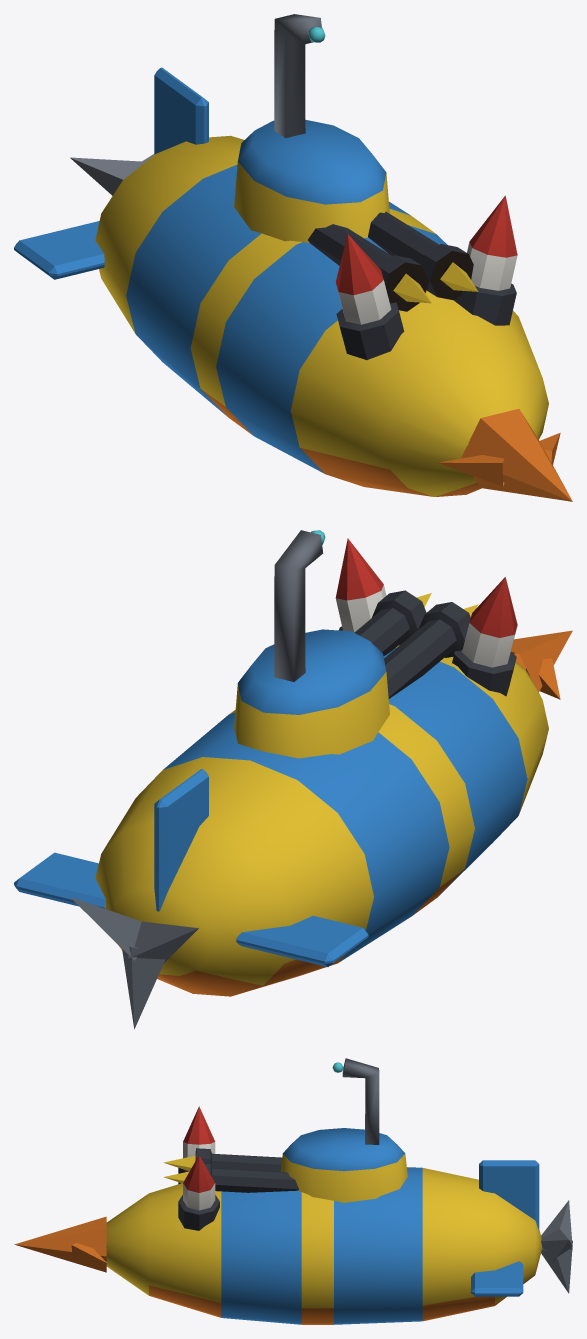
3 views of the same model, one above another, from view 1: azimuth 30°, elevation 25°; view 2: azimuth 150°, elevation 25°; view 3: azimuth 270°, elevation 25° (orthographic). The views are drawn at different scales.
Parts seen in each view (by area): view 1: submarino_0_base, submarino_1_torreta; view 2: submarino_0_base, submarino_1_torreta; view 3: submarino_0_base, submarino_1_torreta.
Boxes of the visible parts, bbox=[...] form: submarino_0_base: bbox=[14, 67, 572, 501]; submarino_1_torreta: bbox=[234, 14, 478, 311]; submarino_0_base: bbox=[14, 538, 572, 1029]; submarino_1_torreta: bbox=[234, 530, 478, 758]; submarino_0_base: bbox=[14, 1106, 572, 1324]; submarino_1_torreta: bbox=[163, 1058, 407, 1202].
Bounding box in the file's own units: 0.58 × 0.6953 × 1.39.
